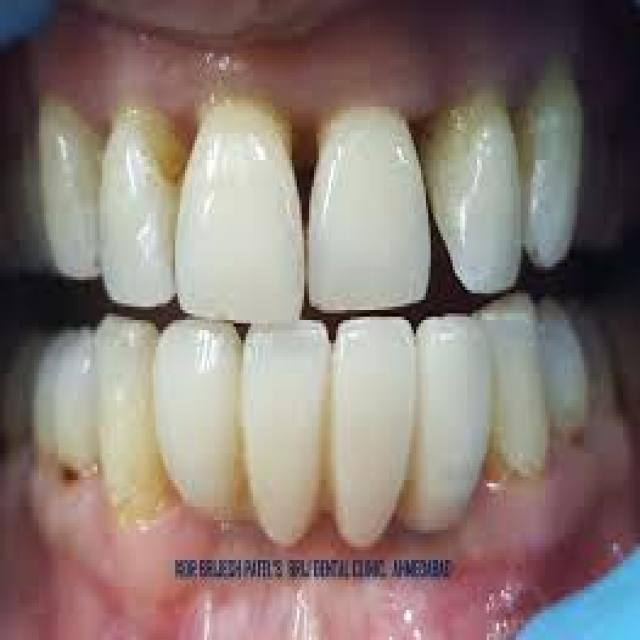tooth: (175, 97, 307, 323), (304, 90, 438, 307), (241, 316, 326, 546), (153, 306, 246, 516), (331, 310, 406, 563), (416, 306, 494, 546), (436, 90, 526, 293), (93, 107, 180, 310), (90, 307, 168, 513), (482, 293, 555, 500), (526, 70, 589, 270), (37, 97, 102, 290), (29, 310, 102, 470), (540, 290, 594, 430)
